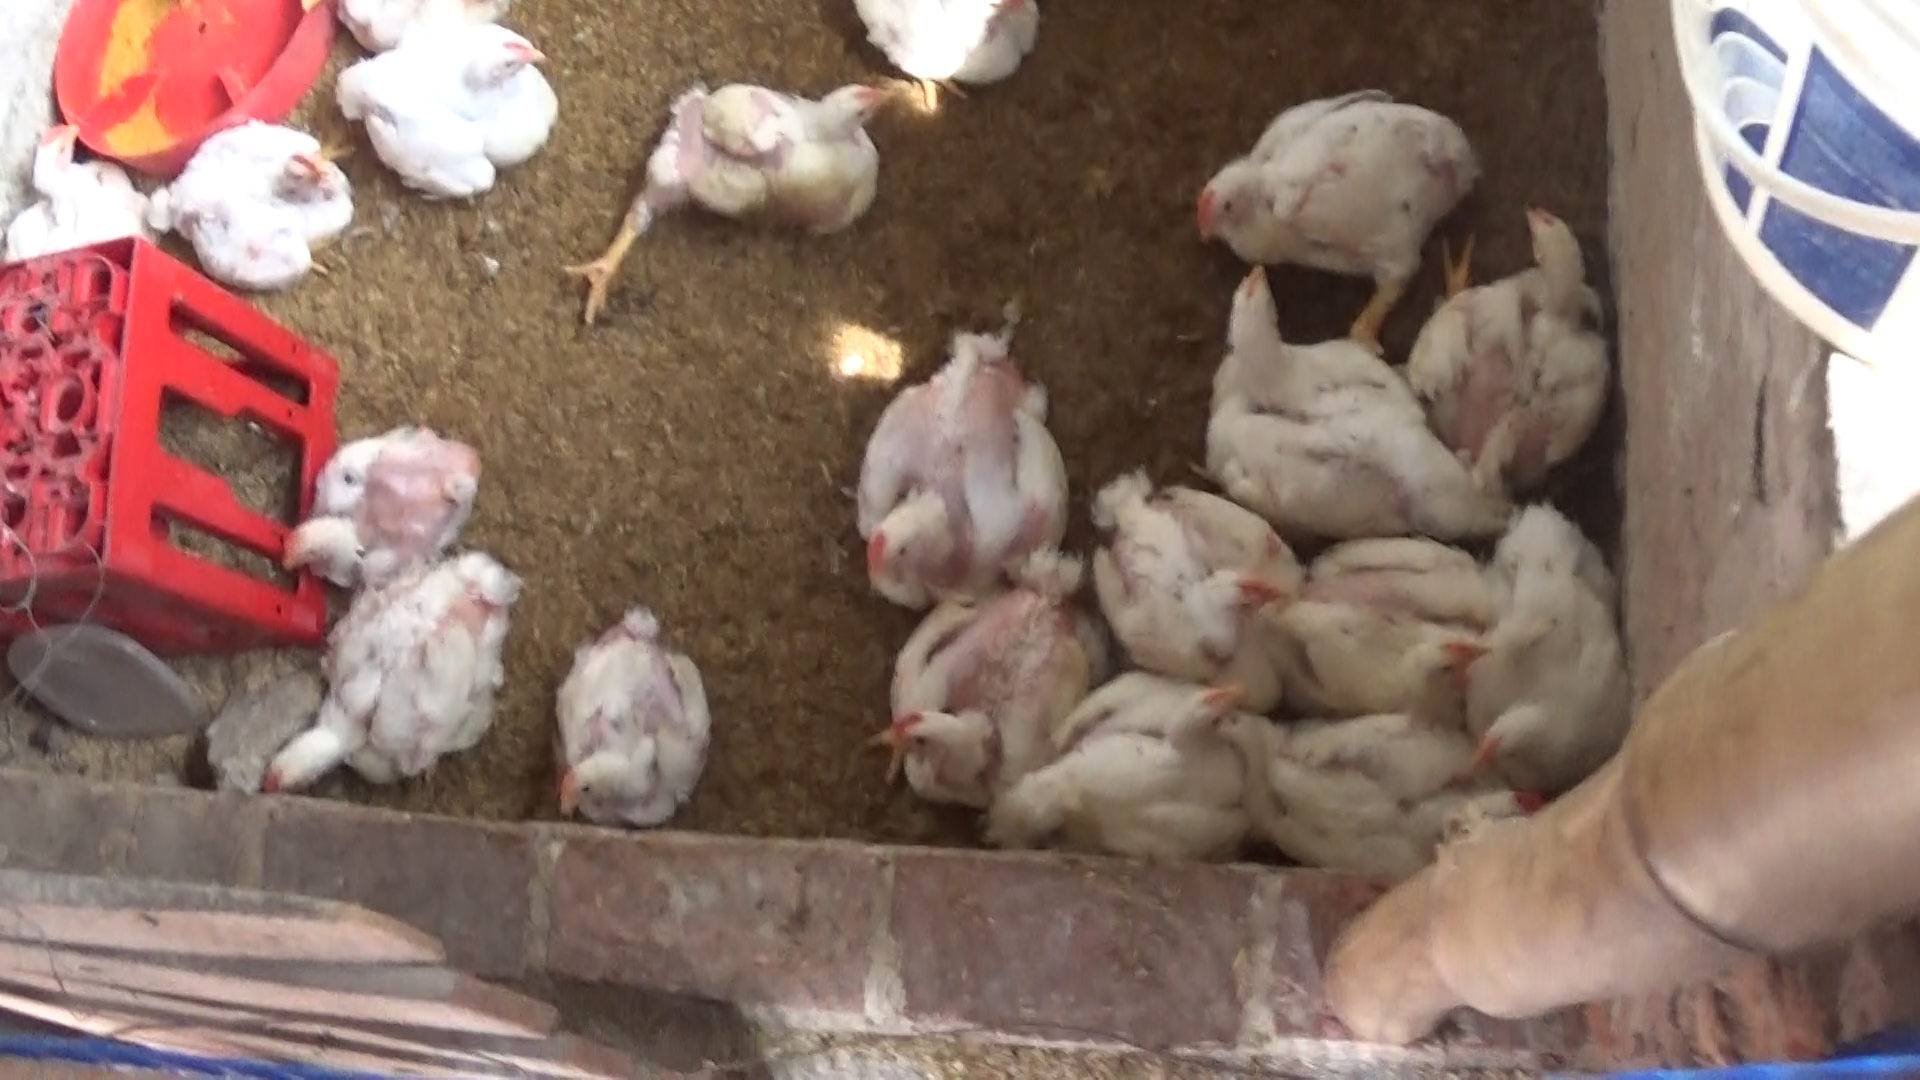Pollos: (553, 83, 922, 318), (1212, 252, 1495, 531), (256, 549, 526, 807), (847, 309, 1071, 607), (852, 551, 1110, 804), (1425, 189, 1619, 491), (1185, 84, 1487, 272), (1095, 462, 1313, 709), (1465, 487, 1625, 785), (1276, 522, 1520, 696), (336, 17, 564, 198), (537, 612, 723, 833), (981, 683, 1253, 832), (161, 128, 360, 295), (274, 427, 487, 583), (5, 112, 152, 252), (132, 216, 141, 223)
